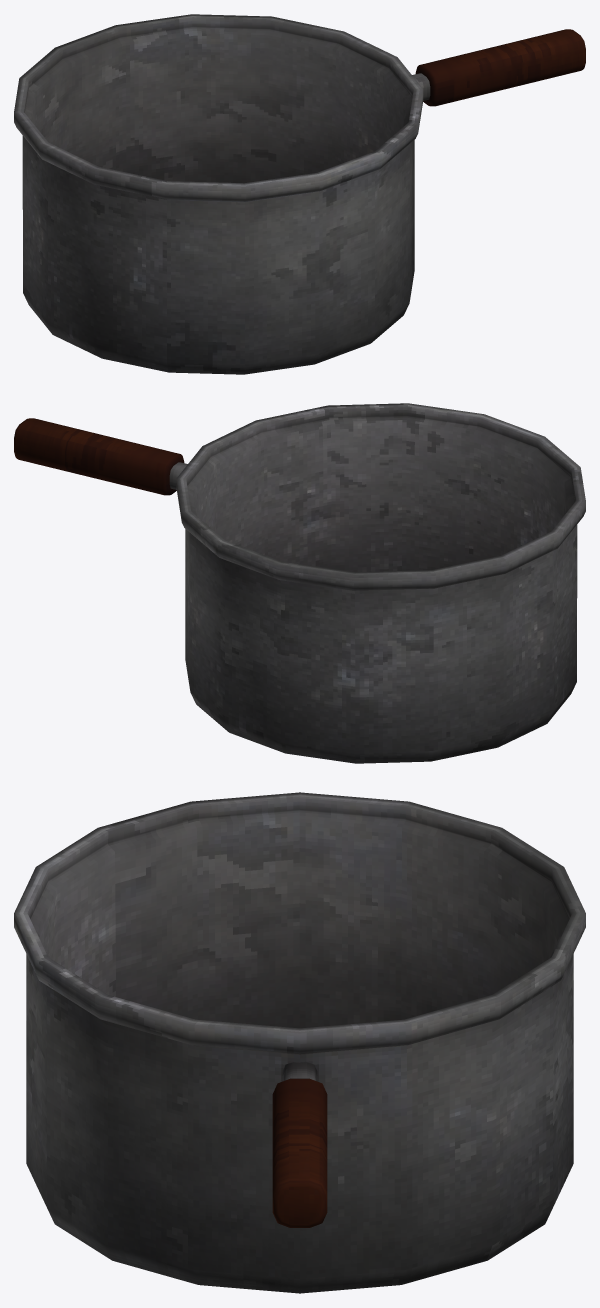
Rendered from Pan_B.glb.
The picture shows the model from 3 angles, top to bottom: view 1: azimuth 30°, elevation 25°; view 2: azimuth 150°, elevation 25°; view 3: azimuth 270°, elevation 25°; orthographic projection. The views are drawn at different scales.
Parts seen in each view (by area): view 1: Pan_B.001; view 2: Pan_B.001; view 3: Pan_B.001.
Part boxes in pixels (left/top/right/bottom): Pan_B.001: left=14, top=14, right=585, bottom=374; Pan_B.001: left=14, top=403, right=585, bottom=763; Pan_B.001: left=14, top=792, right=585, bottom=1293.
Size of the model in its own units: 0.3145 by 0.111 by 0.2091.
Materials: 1 (1 with a texture image).
